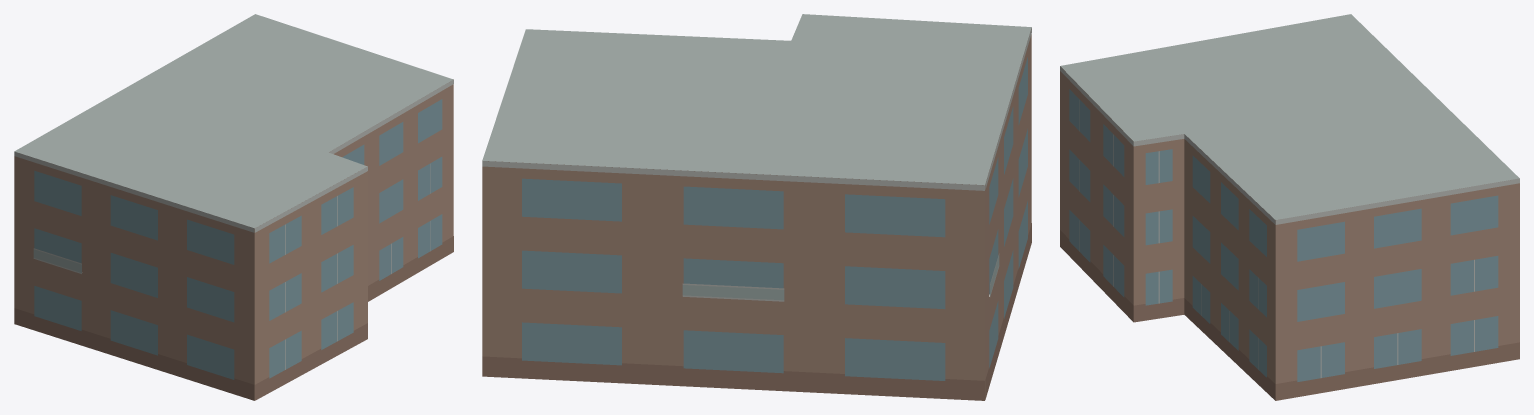
Rendered from survey-upis-32762034.glb.
The picture shows the model from 3 angles, left to right: view 1: azimuth 30°, elevation 25°; view 2: azimuth 150°, elevation 25°; view 3: azimuth 270°, elevation 25°; orthographic projection. The views are drawn at different scales.
Visible parts, largest first — view 1: survey-upis-32762034.tmp; view 2: survey-upis-32762034.tmp; view 3: survey-upis-32762034.tmp.
Part boxes in pixels (<box>): survey-upis-32762034.tmp: <box>14,14,453,400</box>; survey-upis-32762034.tmp: <box>482,14,1031,400</box>; survey-upis-32762034.tmp: <box>1060,14,1519,400</box>.
Size of the model in its own units: 22.4 by 9.15 by 21.11.
